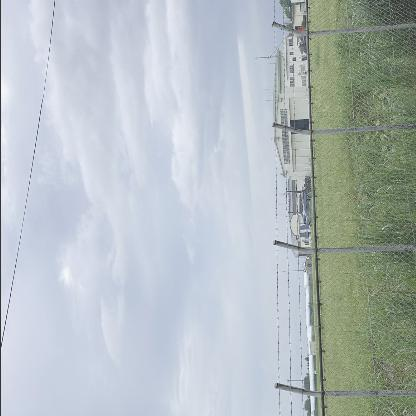Tornado: (285, 186, 309, 238)
